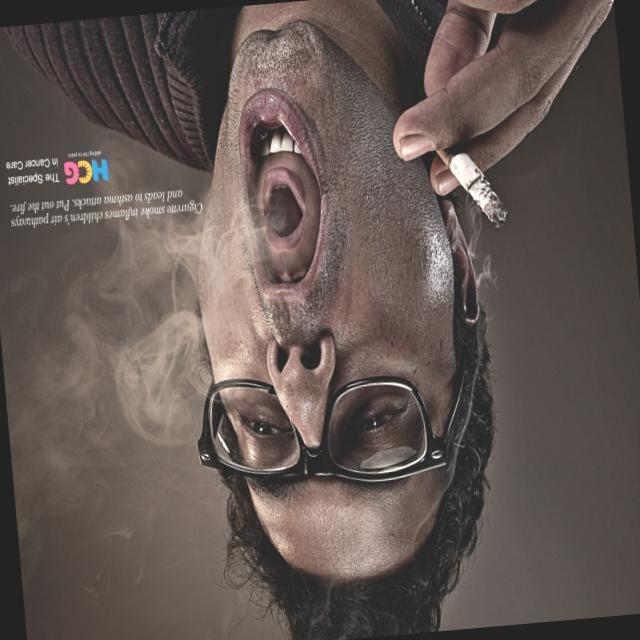smoke: (445, 148, 510, 235)
